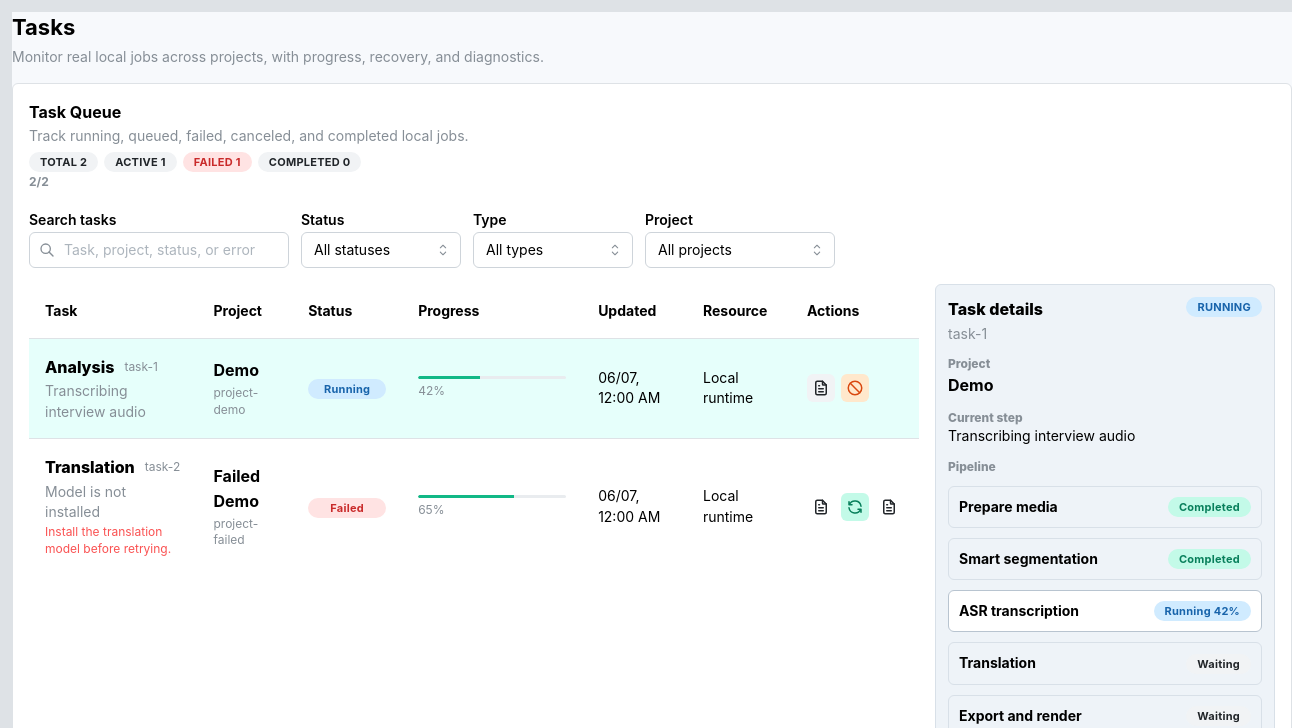
TasksPage › filters the real queue by project
Expected: the text "Transcribing interview audio" below "Analysis" is shown, [45,382,146,420]
Step 1. Select "Failed Demo" in the dropdown labelled "Project" → (740, 250), box [645,232,835,268]
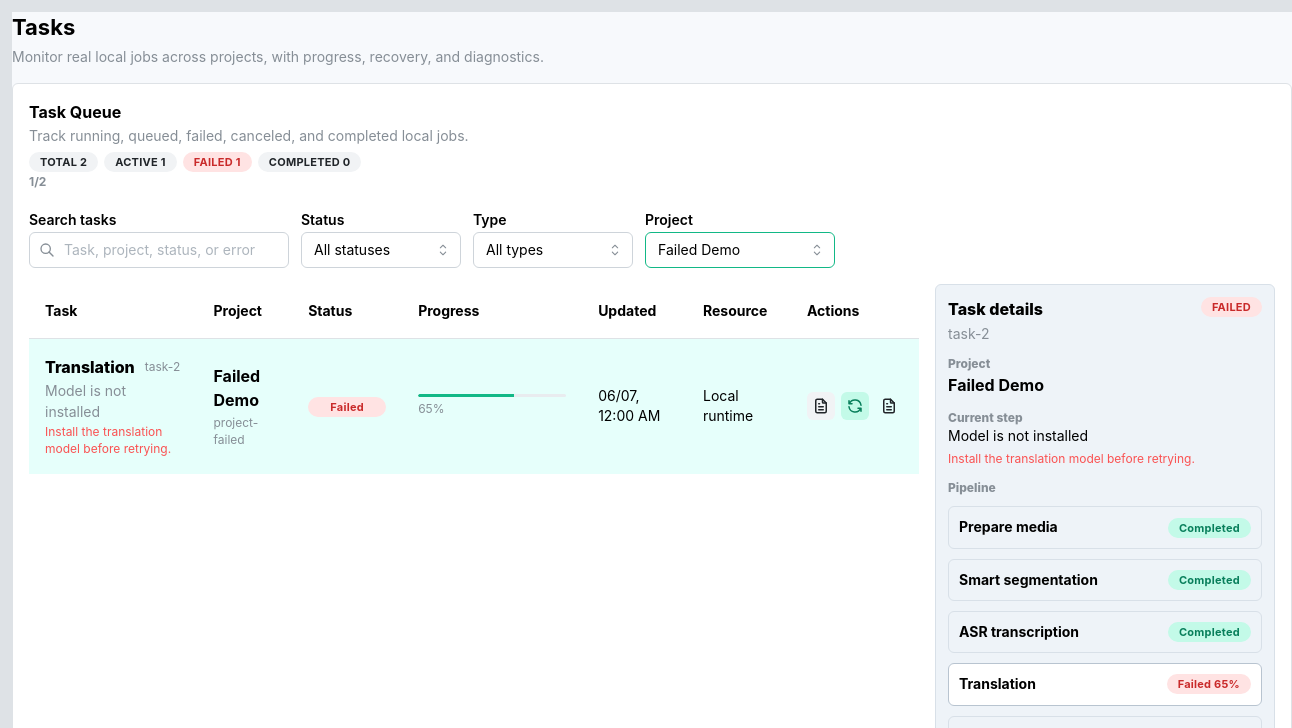
Expected: the text "Model is not installed" next to "project-failed" is shown, [45,382,126,420]
Expected: the text "Transcribing interview audio" is gone
Expected: the text "1/2" is shown, [29,174,46,189]
